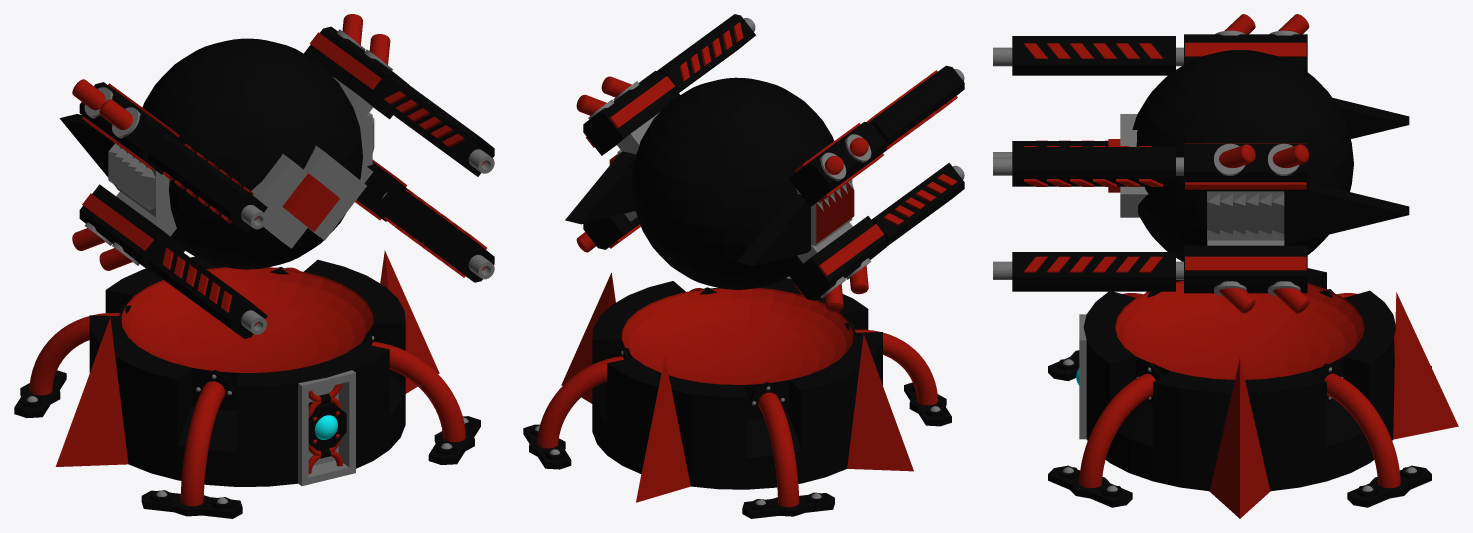
File: turret.fbx
The picture shows the model from 3 angles, left to right: view 1: azimuth 30°, elevation 25°; view 2: azimuth 150°, elevation 25°; view 3: azimuth 270°, elevation 25°; orthographic projection. The views are drawn at different scales.
Visible parts, largest first — view 1: base, turret, base.004, base.003, Cube.003, Cube.030, Cube.021, Cube, Cube.040, Cube.039, Cube.004, tube (+20 smaller); view 2: turret, base, base.004, Cube.001, base.003, base.001, Cube.030, Cube.038, Cube.006, Cube.029, tube.001, tube.003 (+14 smaller); view 3: base, turret, base.004, Cube.001, Cube.004, Cube.021, Cube.030, base.002, base.001, Cube.040, Cube.020, Cube.006 (+18 smaller).
Boxes of the visible parts, <box> form: base: <box>89,256,405,486</box>; turret: <box>142,38,362,269</box>; base.004: <box>121,267,373,372</box>; base.003: <box>55,317,128,466</box>; Cube.003: <box>251,145,366,248</box>; Cube.030: <box>148,133,267,233</box>; Cube.021: <box>375,183,494,282</box>; Cube: <box>298,370,355,485</box>; Cube.040: <box>108,112,374,217</box>; Cube.039: <box>148,239,267,338</box>; Cube.004: <box>375,77,494,176</box>; tube: <box>180,381,225,506</box>; turret: <box>631,77,833,289</box>; base: <box>592,278,882,489</box>; base.004: <box>621,287,853,384</box>; Cube.001: <box>565,151,810,265</box>; base.003: <box>847,334,913,471</box>; base.001: <box>636,357,690,502</box>; Cube.030: <box>869,65,964,146</box>; Cube.038: <box>789,216,886,300</box>; Cube.006: <box>583,70,679,155</box>; Cube.029: <box>789,121,886,206</box>; tube.001: <box>758,392,799,507</box>; tube.003: <box>537,356,623,448</box>; base: <box>1083,268,1395,491</box>; turret: <box>1132,50,1353,261</box>; base.004: <box>1115,280,1364,379</box>; Cube.001: <box>1284,98,1409,243</box>; Cube.004: <box>1012,147,1175,186</box>; Cube.021: <box>1012,252,1175,291</box>; Cube.030: <box>1012,36,1175,75</box>; base.002: <box>1209,358,1270,518</box>; base.001: <box>1393,292,1458,439</box>; Cube.040: <box>1207,191,1284,240</box>; Cube.020: <box>1184,245,1307,293</box>; Cube.006: <box>1184,144,1307,191</box>.
Size of the model in its own units: 345 by 319 by 367.
